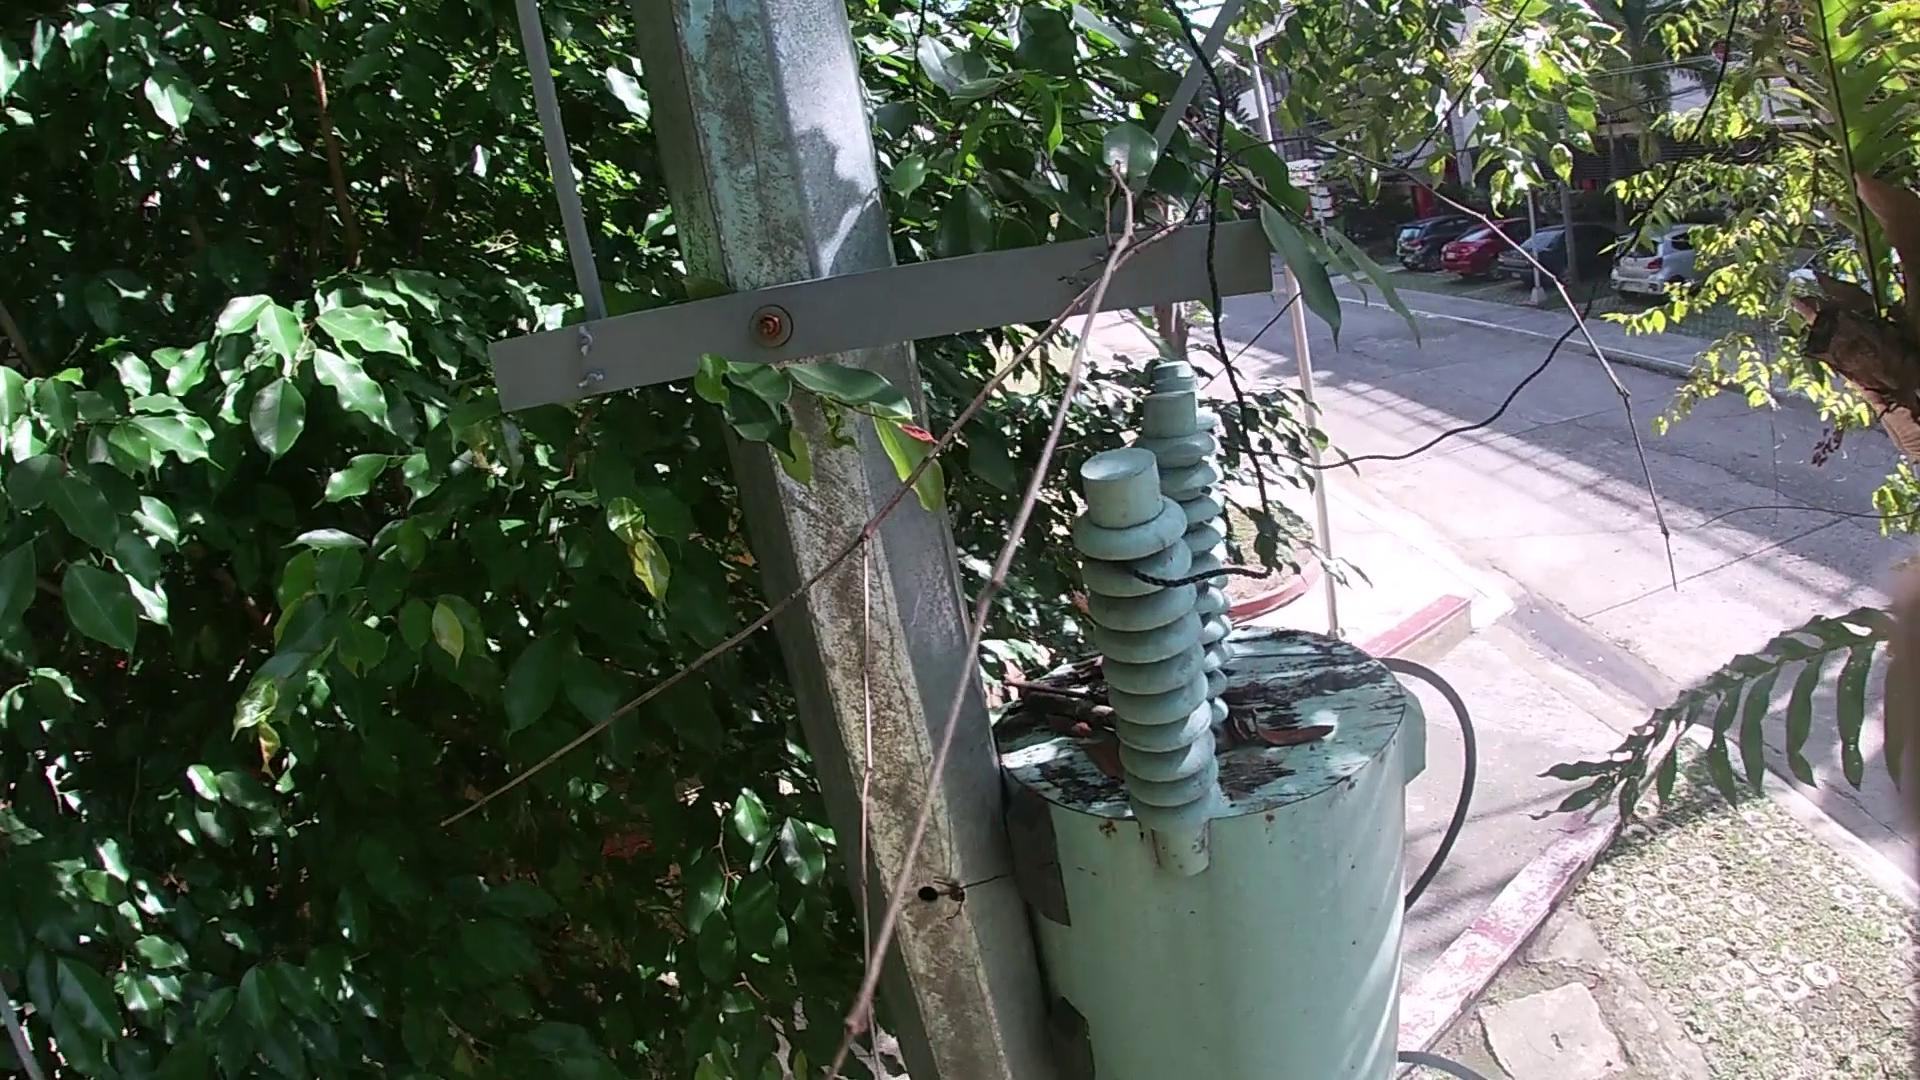leaf: (1250, 705, 1332, 752), (1073, 735, 1126, 782), (1043, 707, 1096, 741)
tree branch: (429, 127, 1691, 1077), (1002, 674, 1124, 735), (1232, 589, 1308, 634)
